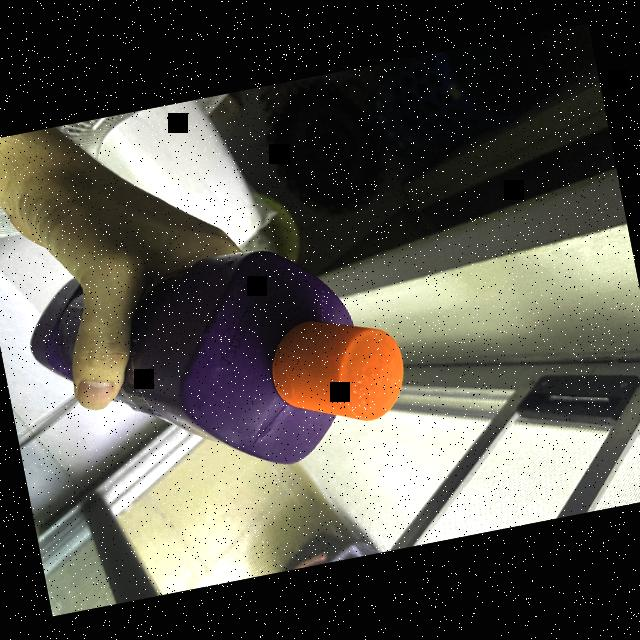toilet_cleaner: (14, 208, 424, 514)
